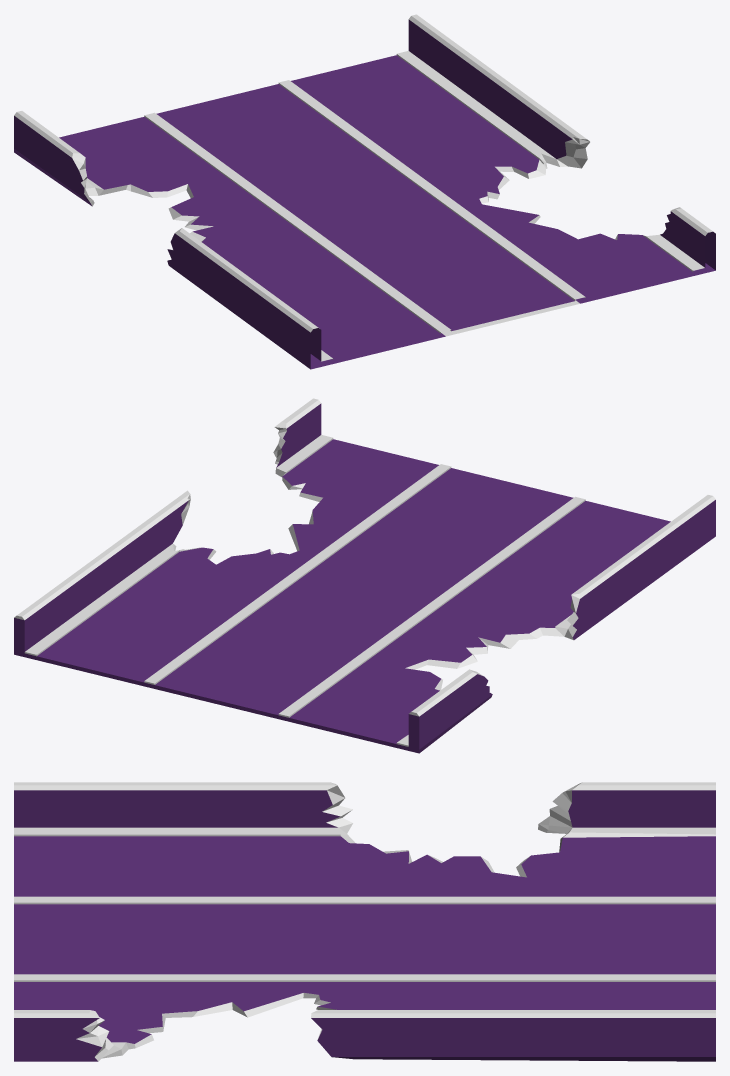
File: Road_damaged_sides.fbx
3 renders of one model, top to bottom at view 1: azimuth 30°, elevation 25°; view 2: azimuth 150°, elevation 25°; view 3: azimuth 270°, elevation 25°, orthographic. The views are drawn at different scales.
Visible parts, largest first — view 1: Road_damaged_sides; view 2: Road_damaged_sides; view 3: Road_damaged_sides.
Boxes of the visible parts, x1,y1,x2,y2 form: Road_damaged_sides: (14, 14, 715, 369); Road_damaged_sides: (14, 398, 715, 753); Road_damaged_sides: (14, 782, 715, 1061).
Size of the model in its own units: 29.64 by 2.77 by 37.49.
